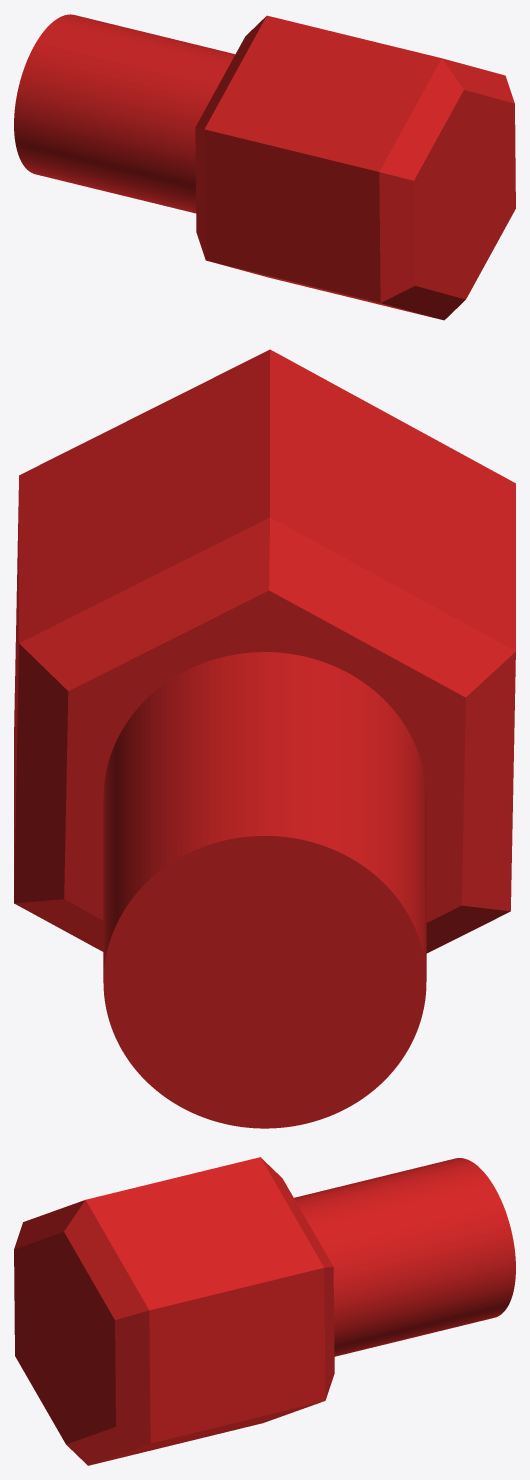
File: 3_colored.obj
3 views of the same model, one above another, from view 1: azimuth 30°, elevation 25°; view 2: azimuth 150°, elevation 25°; view 3: azimuth 270°, elevation 25° (orthographic). The views are drawn at different scales.
Bounding box in the file's own units: 0.0321 × 0.0231 × 0.0398.
